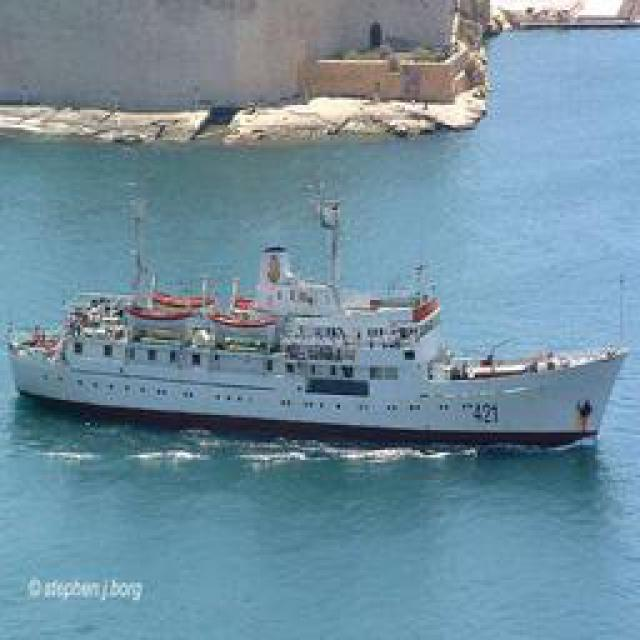Ship: (5, 229, 613, 449)
